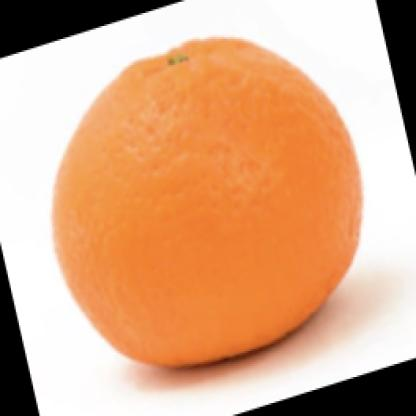fresh: (55, 40, 362, 370)
